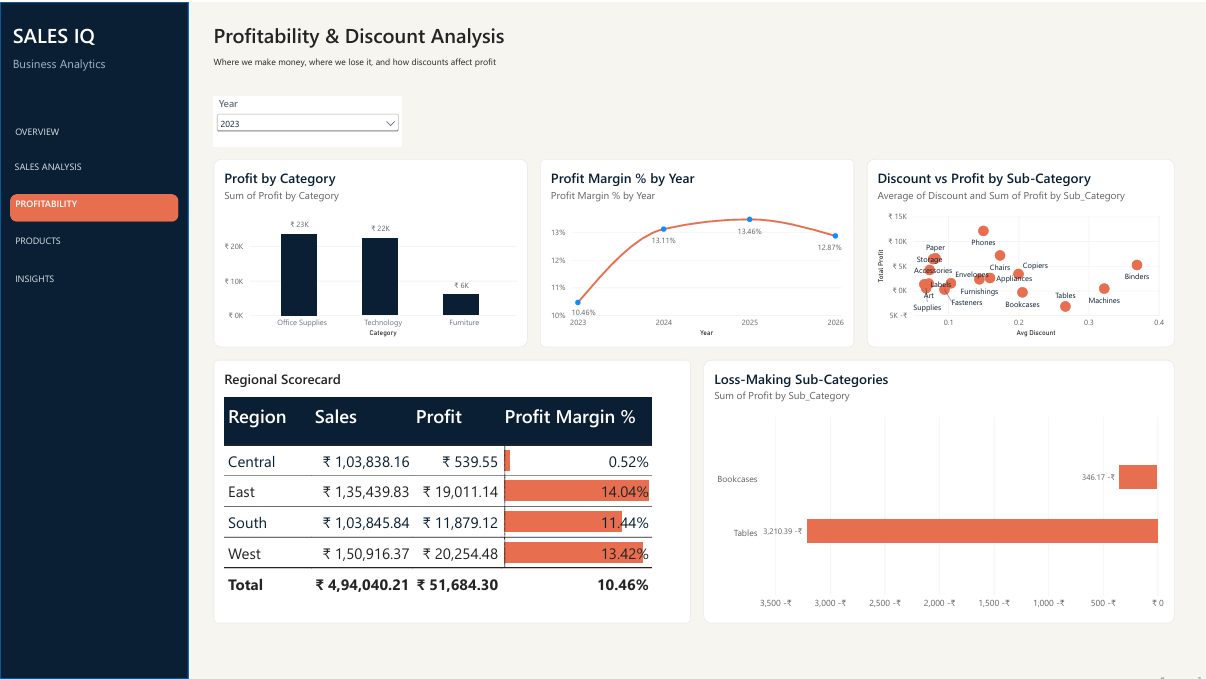

The page's visual inventory and layout, read from the dashboard file:
{"tool":"powerbi","page":{"name":"Profitability","canvas":[1920,1080],"ordinal":2},"visuals":[{"type":"shape","box":[0,0,300,1080],"z":0},{"type":"shape","box":[16.3,306,268,44],"z":1000},{"type":"slicer","fields":{"Values":["sales_analytics orders.Order_Date.Variation.Date Hierarchy.Year"]},"box":[340,150,300,80],"z":2000},{"type":"clusteredBarChart","title":"Loss-Making Sub-Categories","fields":{"Category":["sales_analytics orders.Sub_Category"],"Y":["Sum(sales_analytics orders.Profit)"]},"box":[1120,570,750,420],"z":3000},{"type":"clusteredColumnChart","title":"Profit by Category","fields":{"Category":["sales_analytics orders.Category"],"Y":["Sum(sales_analytics orders.Profit)"]},"box":[340,250,500,300],"z":4000},{"type":"lineChart","title":"Profit Margin % by Year","fields":{"Category":["sales_analytics orders.Order_Date.Variation.Date Hierarchy.Year"],"Y":["sales_analytics orders.Profit Margin %"]},"box":[860,250,500,300],"z":5000},{"type":"scatterChart","title":"Discount vs Profit by Sub-Category","fields":{"Category":["sales_analytics orders.Sub_Category"],"X":["Avg(sales_analytics orders.Discount)"],"Y":["Sum(sales_analytics orders.Profit)"]},"box":[1380,250,490,300],"z":6000},{"type":"tableEx","title":"Regional Scorecard","fields":{"Values":["sales_analytics orders.Region","Sum(sales_analytics orders.Sales)","Sum(sales_analytics orders.Profit)","sales_analytics orders.Profit Margin %"]},"box":[340,570,760,420],"z":7000},{"type":"textbox","box":[20,85,240,40],"z":8000},{"type":"textbox","box":[24,310,240,40],"z":9000},{"type":"textbox","box":[20,30,260,60],"z":10000},{"type":"textbox","box":[24,370,240,40],"z":11000},{"type":"textbox","box":[23.4,250.9,241.5,39.9],"z":12000},{"type":"textbox","box":[24,430,240,40],"z":13000},{"type":"textbox","box":[24,196,218.6,48.8],"z":14000},{"type":"textbox","box":[340,30,700,60],"z":15000},{"type":"textbox","box":[340,85,700,36],"z":16000},{"type":"actionButton","box":[16,306,268,44],"z":17000},{"type":"actionButton","box":[16,186,268,44],"z":18000},{"type":"actionButton","box":[16,246,268,44],"z":19000},{"type":"actionButton","box":[16,366,268,44],"z":20000},{"type":"actionButton","box":[16,426,268,44],"z":21000}]}

Visuals, with their boxes on the page's 1920x1080 design canvas (x1, y1, x2, y2). These are canvas units, not pixel positions in the 1206x679 screenshot, which may show the page scaled, cropped or inside an application window:
shape: <bbox>0, 0, 300, 1080</bbox>
shape: <bbox>16, 306, 284, 350</bbox>
slicer - sales_analytics orders.Order_Date.Variation.Date Hierarchy.Year: <bbox>340, 150, 640, 230</bbox>
"Loss-Making Sub-Categories" clusteredBarChart: <bbox>1120, 570, 1870, 990</bbox>
"Profit by Category" clusteredColumnChart: <bbox>340, 250, 840, 550</bbox>
"Profit Margin % by Year" lineChart: <bbox>860, 250, 1360, 550</bbox>
"Discount vs Profit by Sub-Category" scatterChart: <bbox>1380, 250, 1870, 550</bbox>
"Regional Scorecard" tableEx: <bbox>340, 570, 1100, 990</bbox>
textbox: <bbox>20, 85, 260, 125</bbox>
textbox: <bbox>24, 310, 264, 350</bbox>
textbox: <bbox>20, 30, 280, 90</bbox>
textbox: <bbox>24, 370, 264, 410</bbox>
textbox: <bbox>23, 251, 265, 291</bbox>
textbox: <bbox>24, 430, 264, 470</bbox>
textbox: <bbox>24, 196, 243, 245</bbox>
textbox: <bbox>340, 30, 1040, 90</bbox>
textbox: <bbox>340, 85, 1040, 121</bbox>
actionButton: <bbox>16, 306, 284, 350</bbox>
actionButton: <bbox>16, 186, 284, 230</bbox>
actionButton: <bbox>16, 246, 284, 290</bbox>
actionButton: <bbox>16, 366, 284, 410</bbox>
actionButton: <bbox>16, 426, 284, 470</bbox>
